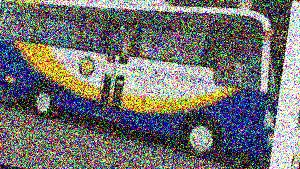bus: (0, 0, 281, 157)
